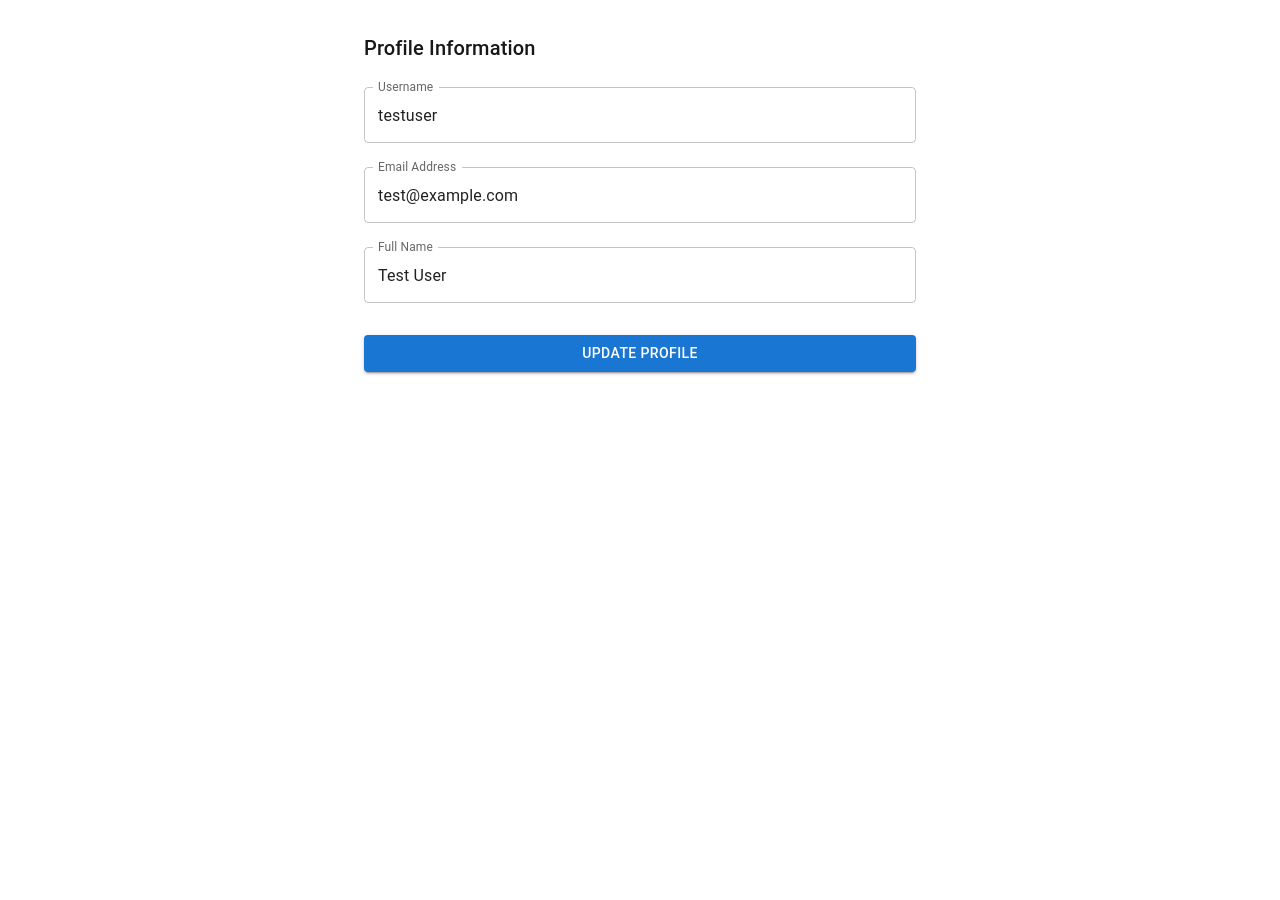
Scenario: ProfilePage Integration › displays error message on update failure
The image size is (1280, 900).
Replace the text in the field labelled "Email Address" with "existing@example.com": (640, 195) [364, 167, 916, 223]
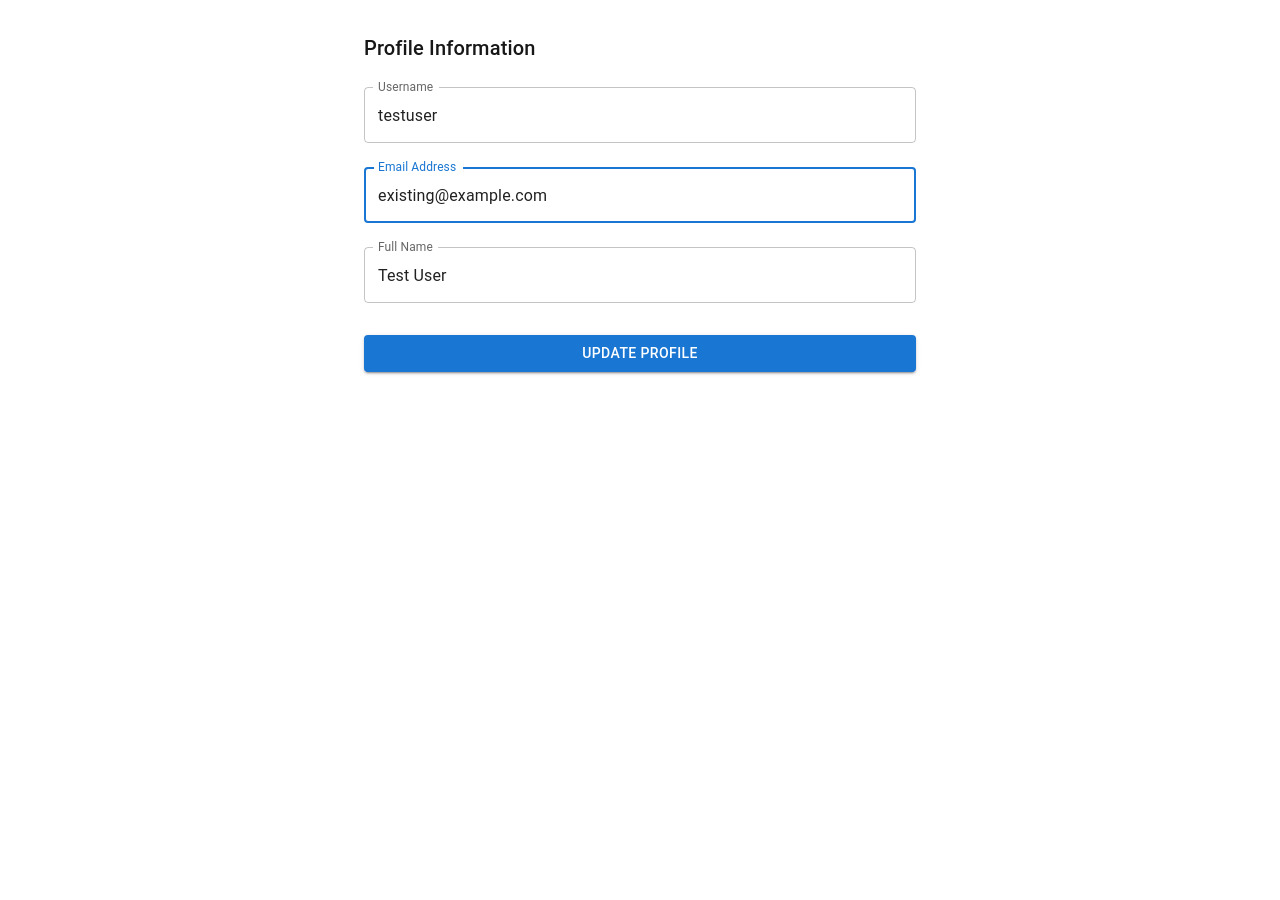
Click the button "Update Profile": (640, 353) [364, 335, 916, 372]
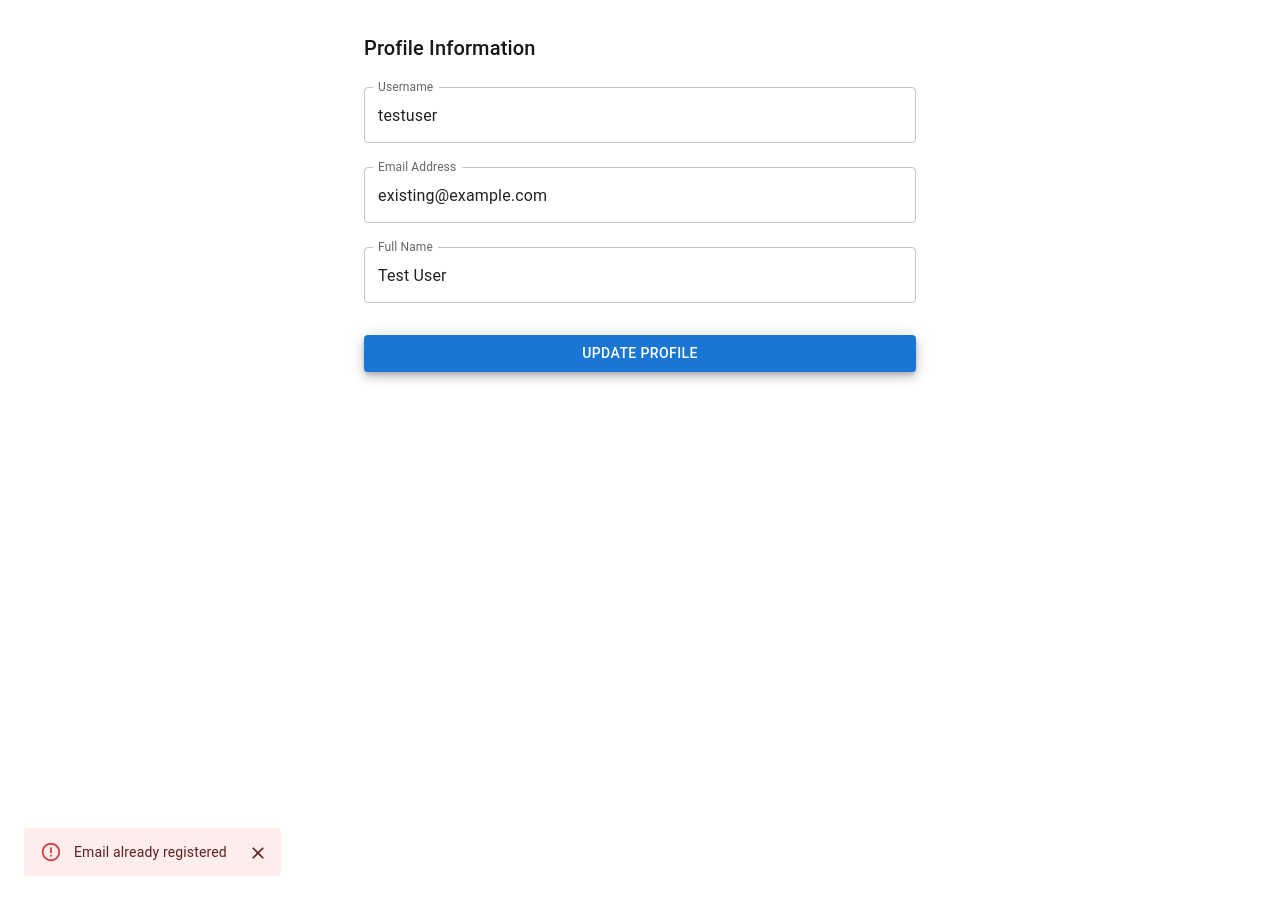
Result: the text "Email already registered" is shown at [74, 844, 227, 860]
